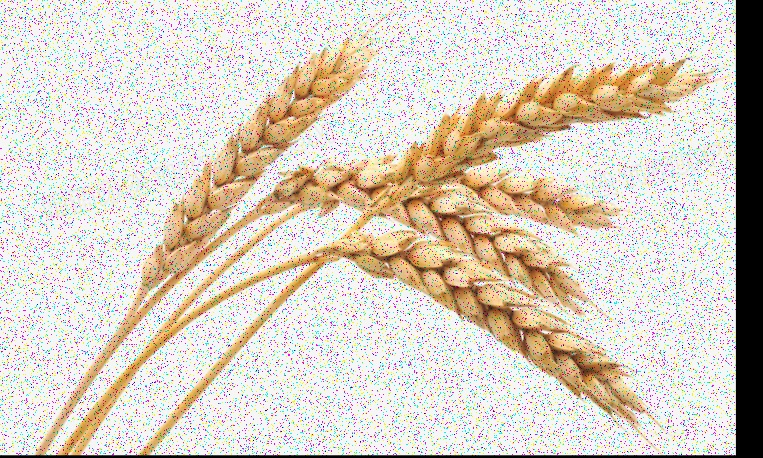wheat: (122, 34, 366, 319), (345, 48, 714, 234), (315, 235, 650, 430)
